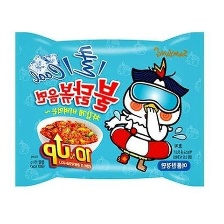snack: (7, 24, 215, 191)
